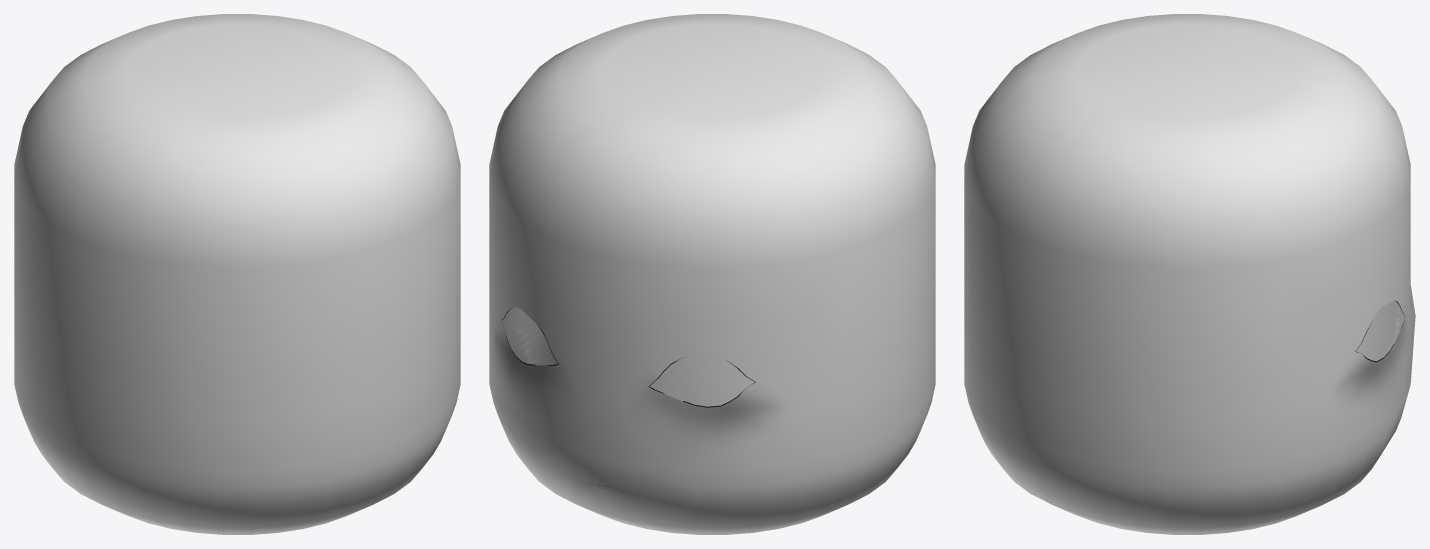
File: 30-vkei-emo-side-eye-moody-face-face.glb
3 views of the same model, side by side, from view 1: azimuth 30°, elevation 25°; view 2: azimuth 150°, elevation 25°; view 3: azimuth 270°, elevation 25° (orthographic).
Parts seen in each view (by area): view 1: 30-vkei-emo-side-eye-moody-face-face; view 2: 30-vkei-emo-side-eye-moody-face-face; view 3: 30-vkei-emo-side-eye-moody-face-face.
Part boxes in pixels (x1,y1,x2,y2): 30-vkei-emo-side-eye-moody-face-face: [14, 14, 460, 534]; 30-vkei-emo-side-eye-moody-face-face: [489, 14, 935, 534]; 30-vkei-emo-side-eye-moody-face-face: [964, 14, 1415, 534].
Size of the model in its own units: 1.19 by 1.19 by 1.2.
1 material, 1 textured.
